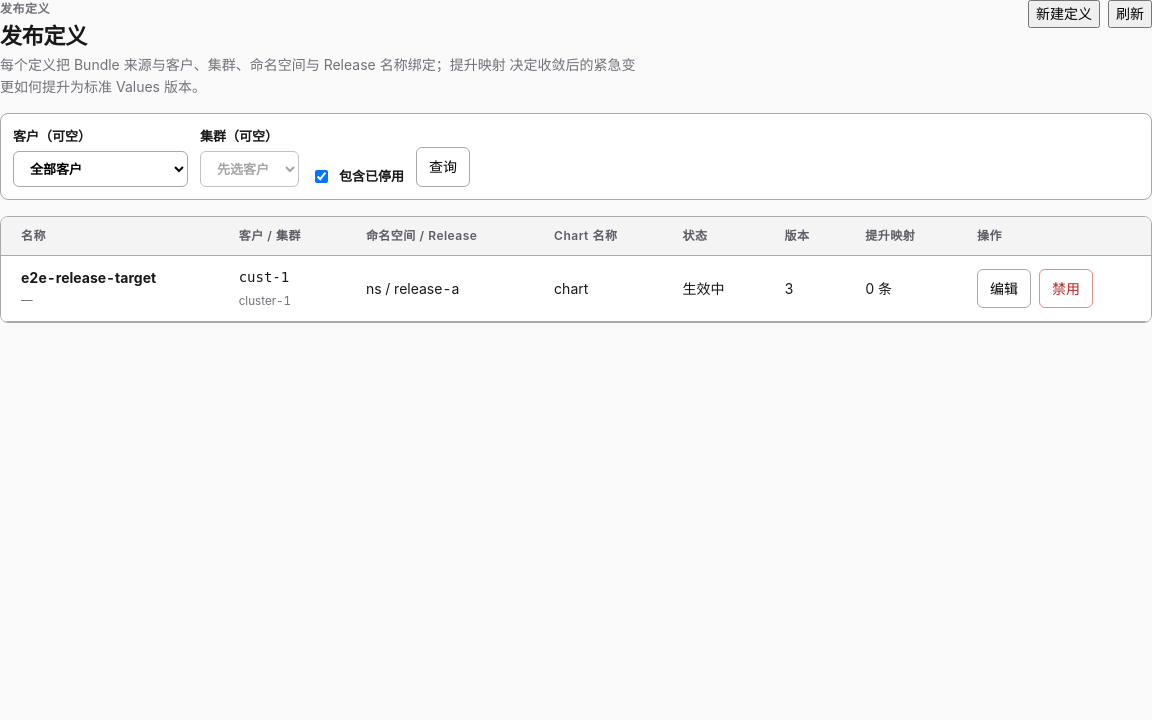
Test: DefinitionsPage › renders the editor in the shared dialog with a labelled title
This screenshot has width=1152, height=720.
What coordinates should you click on to do the following:
click the button with test id "definition-edit-def-1"
I would click on:
 (1004, 288)
Its box is x1=977 y1=268 x2=1031 y2=308.
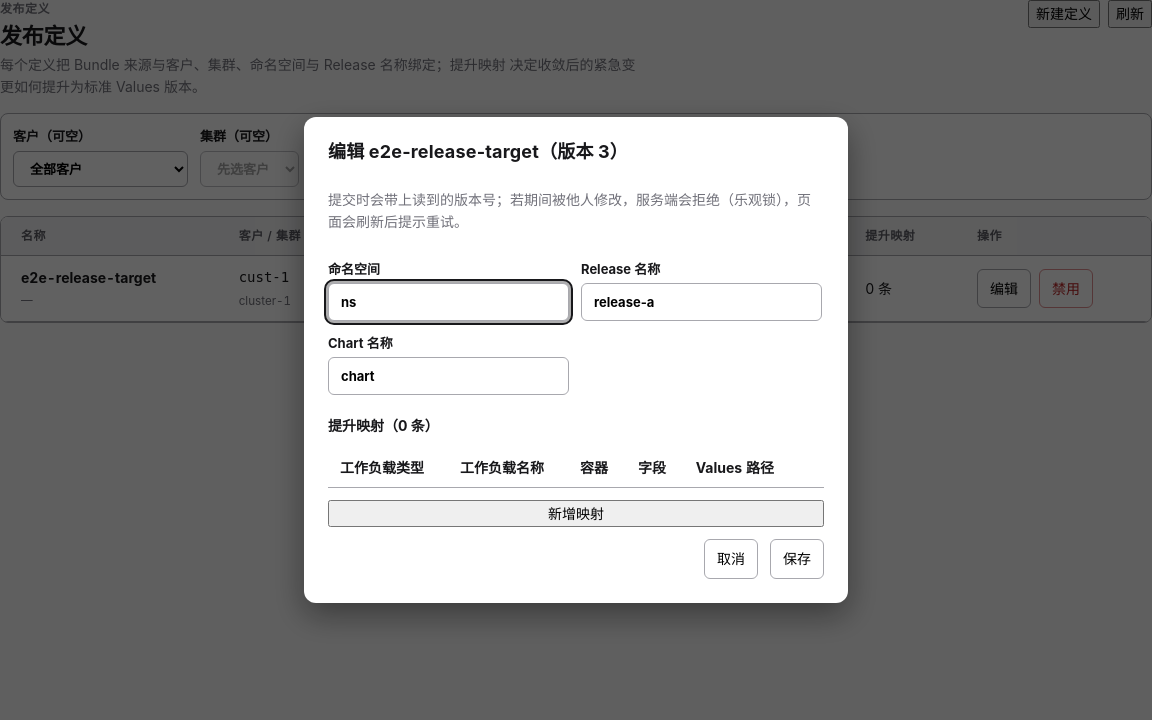
Check: the heading "编辑 e2e-release-target（版本 3）" is shown, box x1=328 y1=141 x2=628 y2=162
